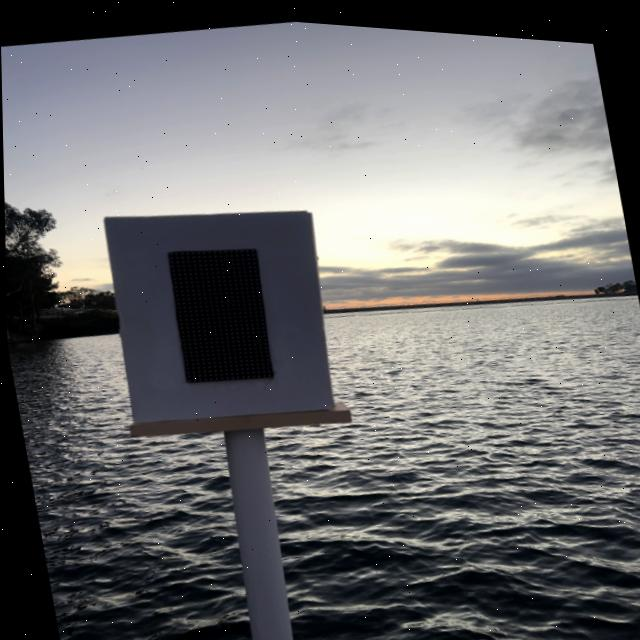led: (115, 199, 324, 427)
